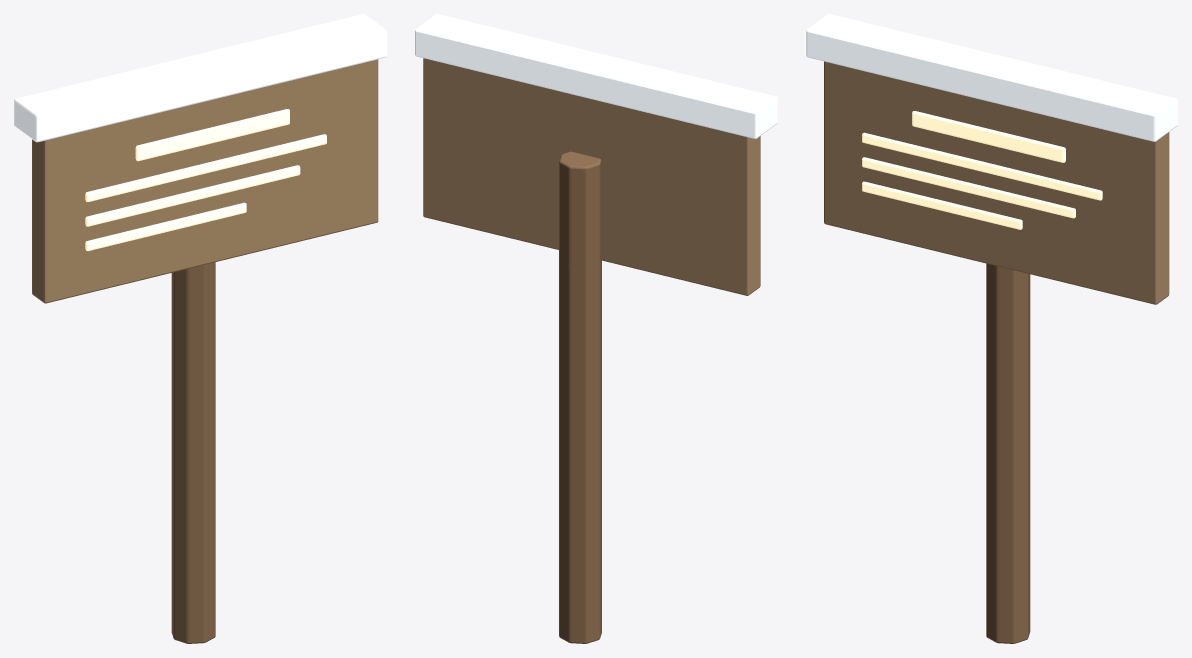
File: LetreroPoste.glb
3 renders of one model, left to right at view 1: azimuth 30°, elevation 25°; view 2: azimuth 150°, elevation 25°; view 3: azimuth 330°, elevation 25°, orthographic. The views are drawn at different scales.
Visible parts, largest first — view 1: LetreroPoste; view 2: LetreroPoste; view 3: LetreroPoste.
Part boxes in pixels (<box>): LetreroPoste: <box>14,14,386,643</box>; LetreroPoste: <box>415,14,777,643</box>; LetreroPoste: <box>806,14,1177,643</box>.
Bounding box in the file's own units: 1.05 × 1.66 × 0.1792.
